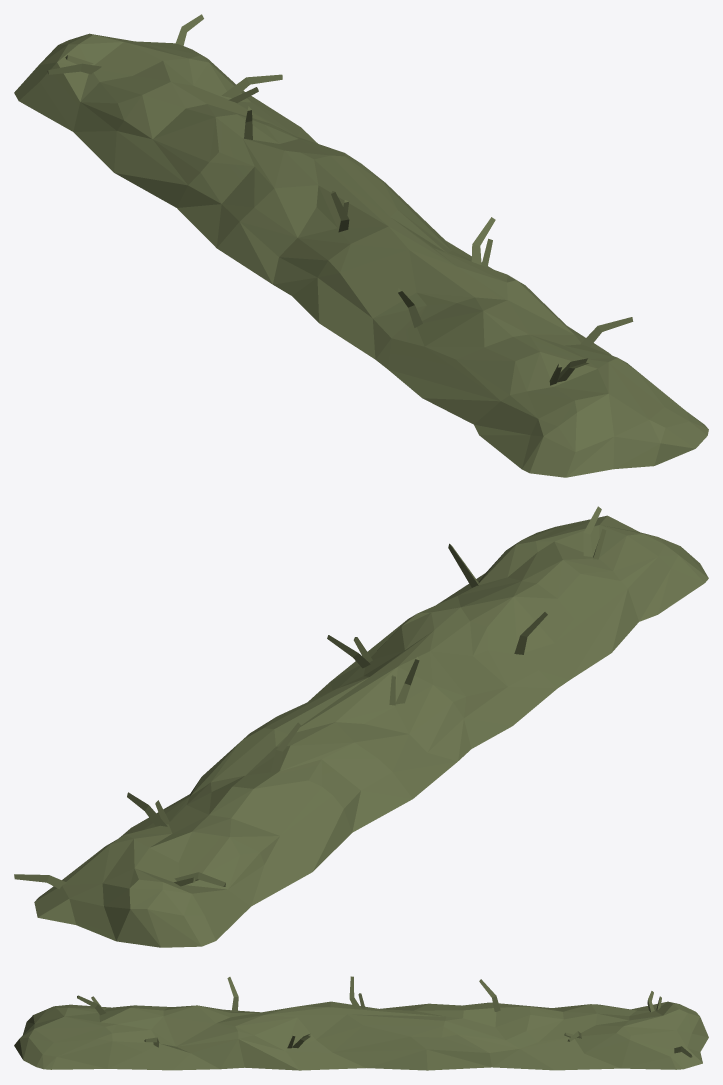
File: SM_Prop_Hay_Pile_02_Green.glb
3 renders of one model, top to bottom at view 1: azimuth 30°, elevation 25°; view 2: azimuth 150°, elevation 25°; view 3: azimuth 270°, elevation 25°, orthographic. The views are drawn at different scales.
Parts seen in each view (by area): view 1: SM_Prop_Hay_Pile_02_Green; view 2: SM_Prop_Hay_Pile_02_Green; view 3: SM_Prop_Hay_Pile_02_Green.
Part boxes in pixels (x1,y1,x2,y2): SM_Prop_Hay_Pile_02_Green: (14, 14, 708, 477); SM_Prop_Hay_Pile_02_Green: (14, 506, 708, 947); SM_Prop_Hay_Pile_02_Green: (14, 976, 708, 1070).
Bounding box in the file's own units: 1.24 × 0.5475 × 6.01.
1 material, 1 textured.
